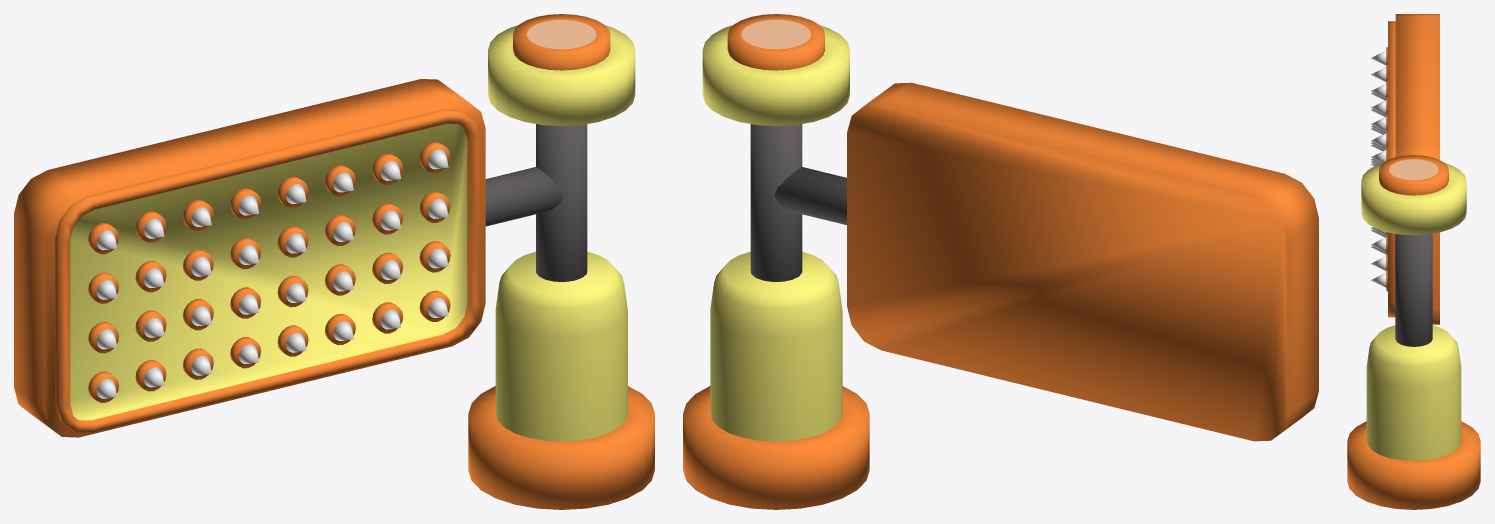
File: Obstacle 13 V3.fbx
The picture shows the model from 3 angles, left to right: view 1: azimuth 30°, elevation 25°; view 2: azimuth 150°, elevation 25°; view 3: azimuth 270°, elevation 25°; orthographic projection. The views are drawn at different scales.
Visible parts, largest first — view 1: O13 Part 1, O13 Part 2; view 2: O13 Part 1, O13 Part 2; view 3: O13 Part 2, O13 Part 1.
Part boxes in pixels (<box>): O13 Part 1: <box>14,79,587,437</box>; O13 Part 2: <box>468,14,654,509</box>; O13 Part 1: <box>750,82,1318,441</box>; O13 Part 2: <box>683,14,869,509</box>; O13 Part 2: <box>1347,155,1480,509</box>; O13 Part 1: <box>1371,14,1439,346</box>.
Bounding box in the file's own units: 170 × 116 × 45.05.
Materials: 1 (1 with a texture image).
